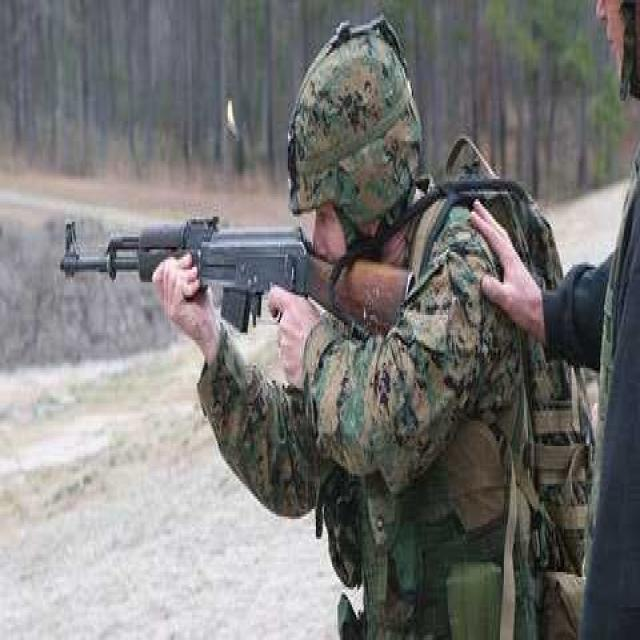Rifle: (54, 197, 432, 389)
